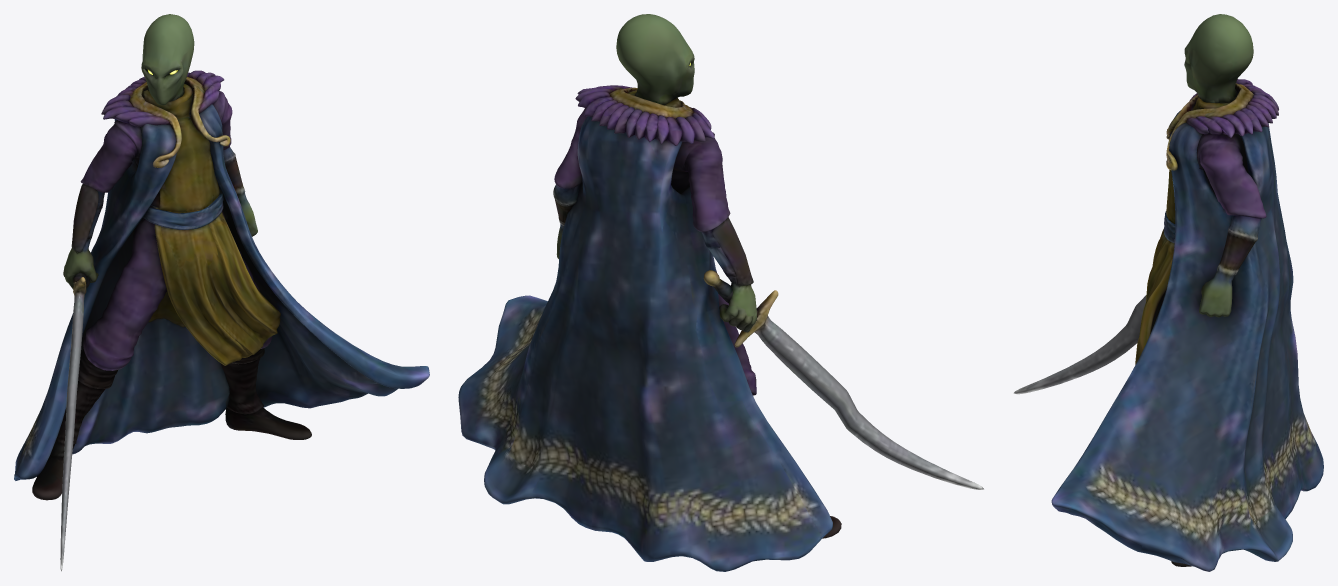
File: MZ4250 - Ultroloth.glb
The picture shows the model from 3 angles, left to right: view 1: azimuth 30°, elevation 25°; view 2: azimuth 150°, elevation 25°; view 3: azimuth 270°, elevation 25°; orthographic projection. The views are drawn at different scales.
Visible parts, largest first — view 1: Body.001; view 2: Body.001; view 3: Body.001.
Boxes of the visible parts, <box> form: Body.001: <box>14,14,429,571</box>; Body.001: <box>458,14,983,571</box>; Body.001: <box>1013,14,1323,571</box>.
Bounding box in the file's own units: 0.9303 × 0.997 × 0.5713.
1 material, 1 textured.
